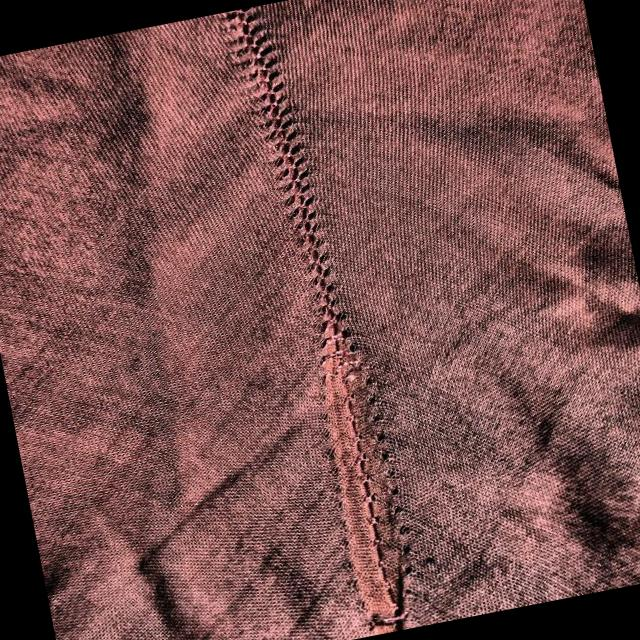gray stitch: (276, 298, 449, 636)
